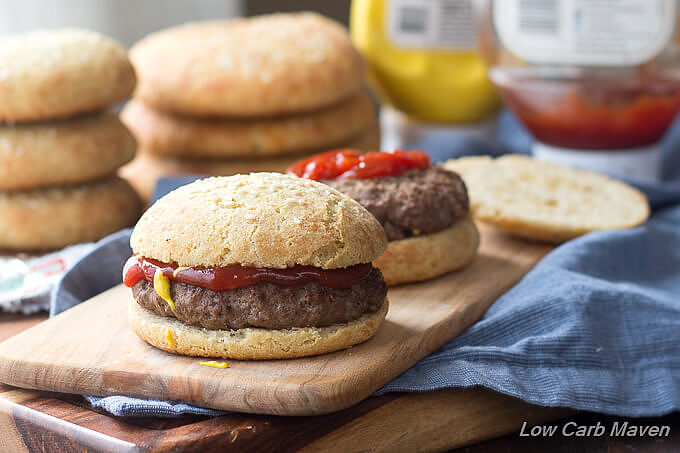hamburger_buns: (121, 173, 383, 363), (433, 128, 636, 259)
